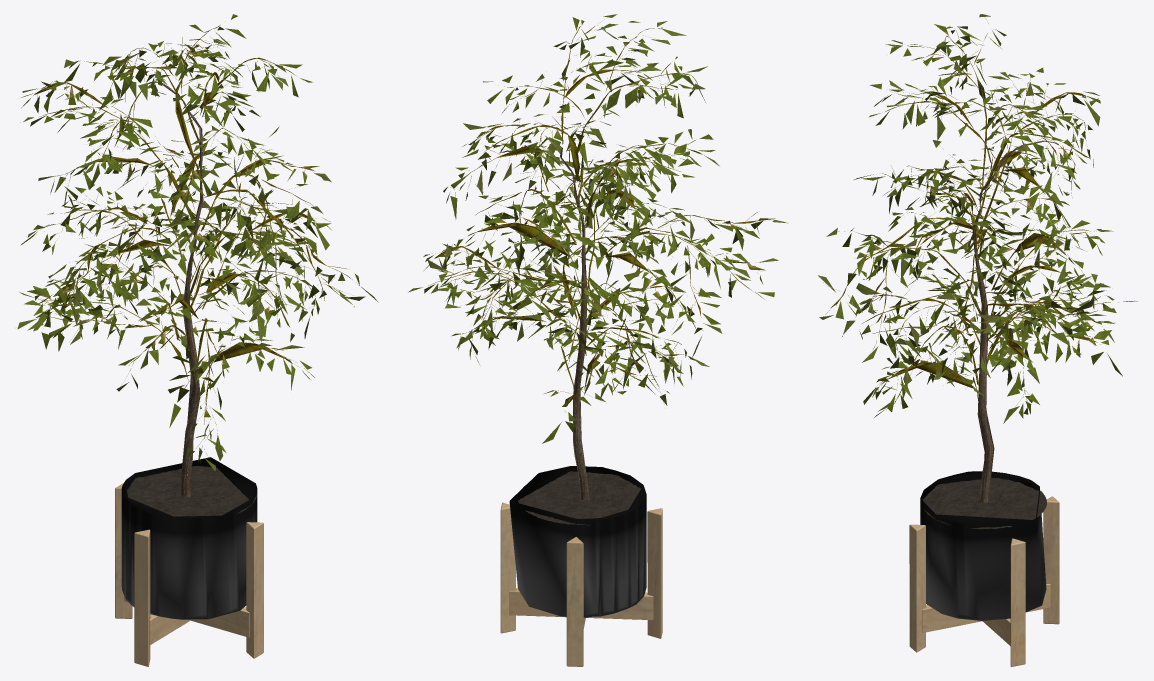
File: decor_plant_big_potted_c01.glb
3 renders of one model, left to right at view 1: azimuth 30°, elevation 25°; view 2: azimuth 150°, elevation 25°; view 3: azimuth 270°, elevation 25°, orthographic. The views are drawn at different scales.
Parts seen in each view (by area): view 1: sm_decor_plant_big_potted_c01_01; view 2: sm_decor_plant_big_potted_c01_01; view 3: sm_decor_plant_big_potted_c01_01.
Boxes of the visible parts, box(x1,y1,x2,y2) form: sm_decor_plant_big_potted_c01_01: box(17, 14, 378, 666); sm_decor_plant_big_potted_c01_01: box(408, 14, 787, 666); sm_decor_plant_big_potted_c01_01: box(818, 14, 1137, 666).
Bounding box in the file's own units: 0.6947 × 1.23 × 0.6217.
Materials: 6 (6 with a texture image).
